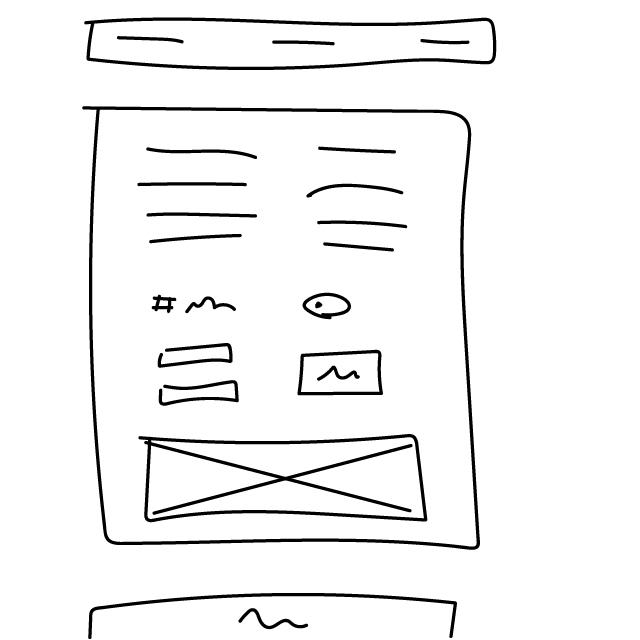buttonrotation: (296, 348, 392, 400)
checkboxrotation: (302, 291, 356, 321)
containerrotation: (59, 95, 494, 559)
footerrotation: (81, 584, 475, 640)
framerotation: (134, 428, 433, 526)
headingrotation: (148, 291, 253, 323)
inputrotation: (153, 379, 245, 408), (154, 344, 237, 368)
navrotation: (80, 12, 505, 75)
textrotation: (136, 142, 266, 257), (302, 138, 415, 259)
